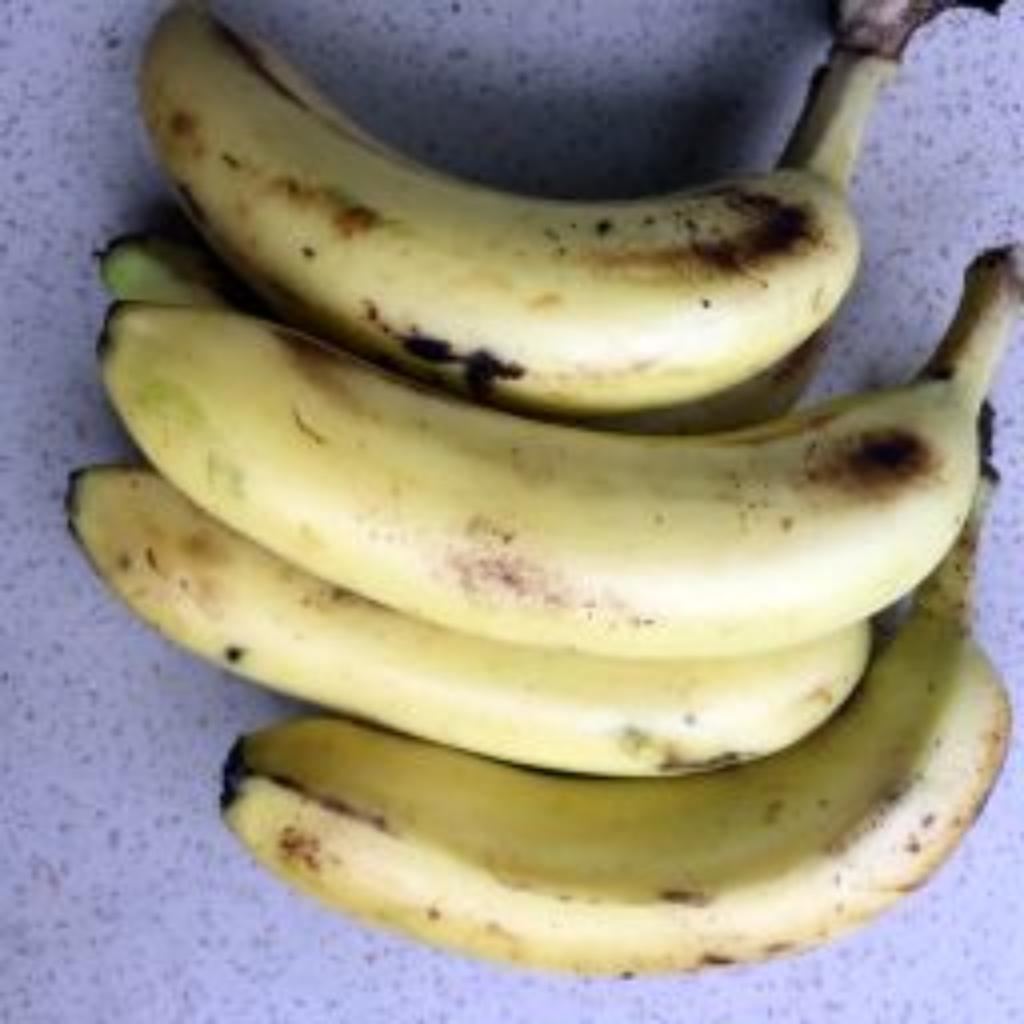banana: (228, 508, 1010, 973), (102, 308, 1003, 657), (70, 470, 870, 775)
